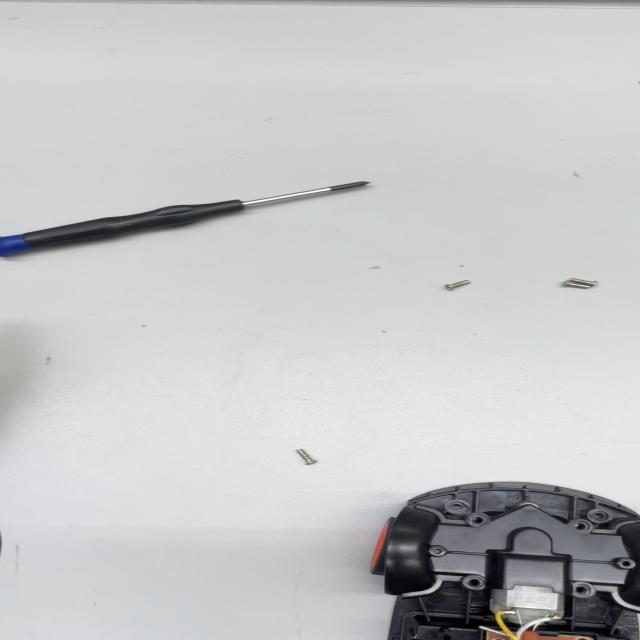screw: (553, 269, 599, 297), (438, 277, 486, 293)
screw_driver: (0, 175, 389, 260)
